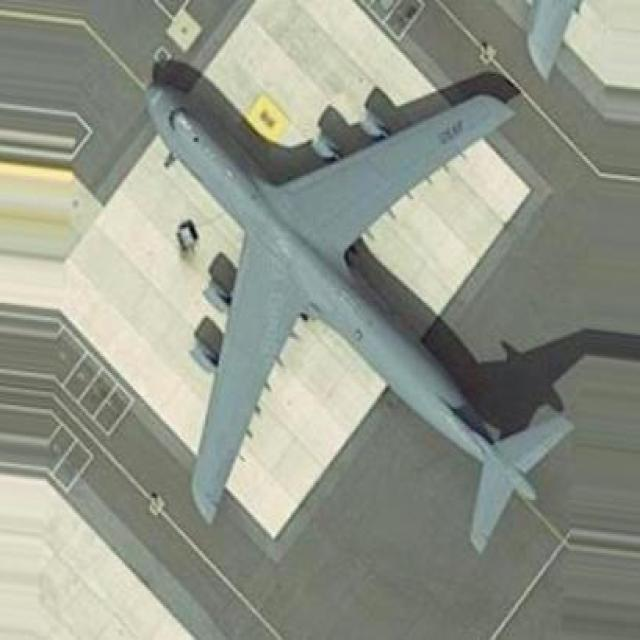C-5_TopDown: (138, 54, 590, 560)
